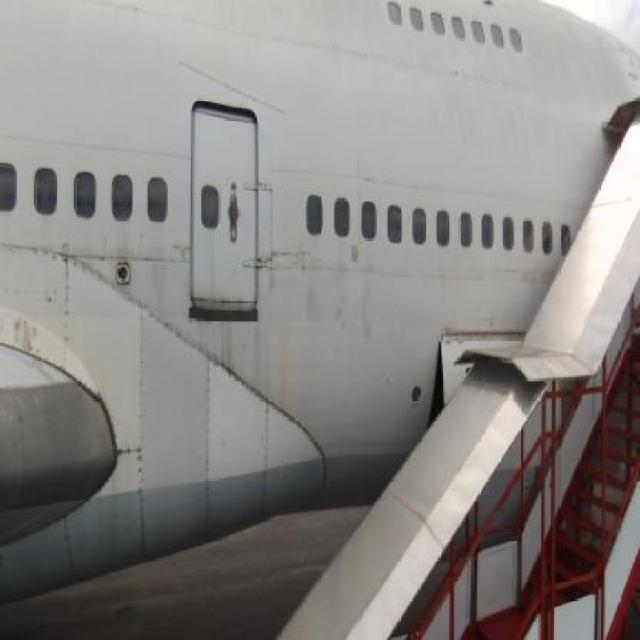Missing-Rivet: (58, 252, 76, 372), (114, 429, 143, 463)
Rust: (195, 312, 258, 386), (273, 316, 295, 424), (192, 281, 257, 314), (114, 232, 140, 258)
Scartch: (296, 265, 396, 337), (8, 307, 46, 365)
